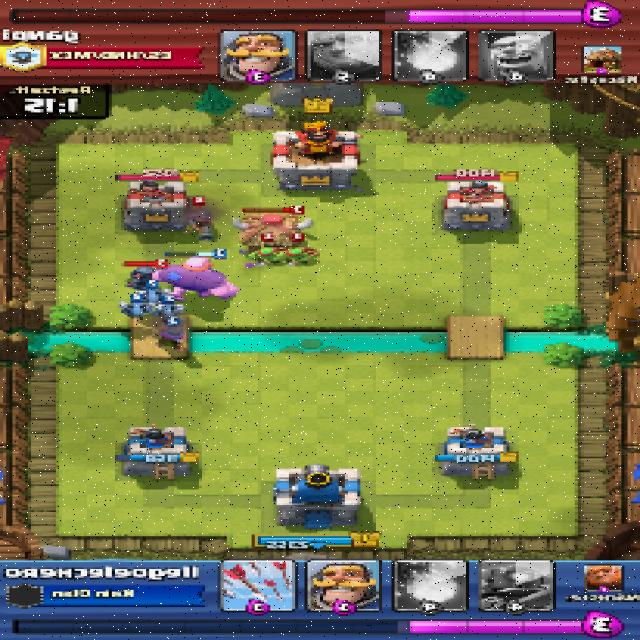Enemy-GoblinHut: (230, 216, 316, 260)
Enemy-MiniPEKKA: (127, 263, 158, 286)
Enemy-Musketeer: (185, 207, 217, 239)
Enemy-SpearGoblin: (284, 247, 320, 267), (250, 247, 281, 268)
Player-Giant: (150, 256, 238, 298)
Player-Minion: (153, 301, 182, 321), (120, 302, 148, 319), (136, 287, 163, 302)
Player-Musketeer: (153, 321, 187, 348)
